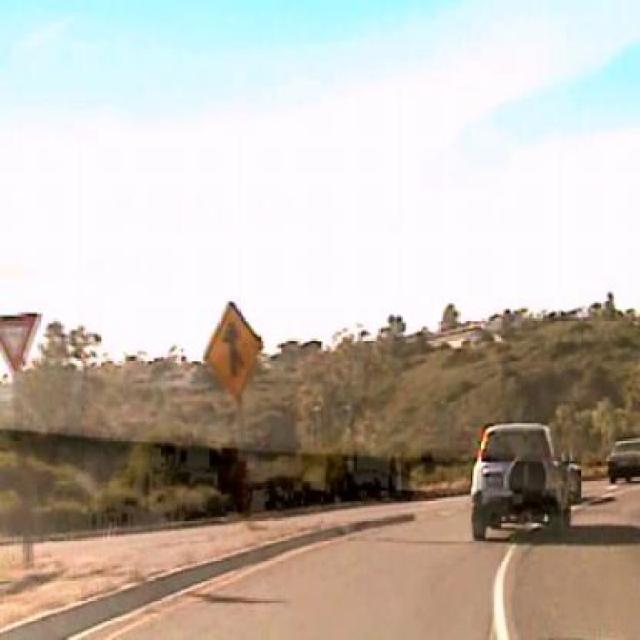merge: (203, 298, 262, 398)
